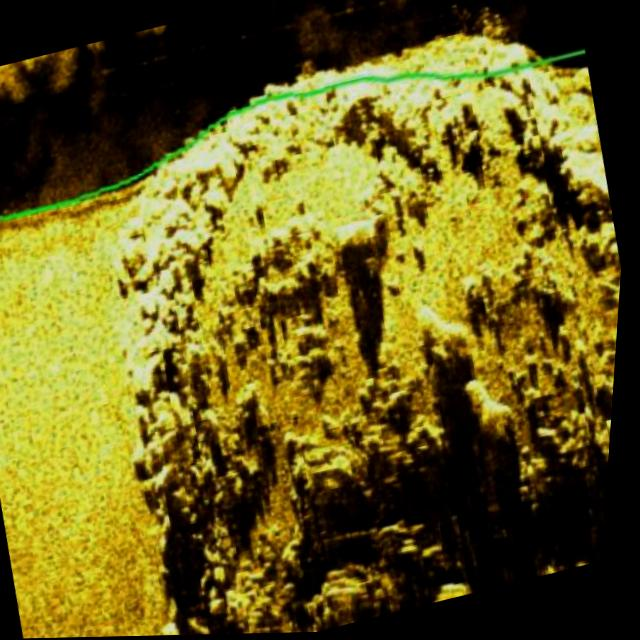bedrock group: (48, 2, 639, 639)
